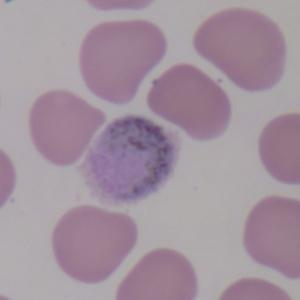Infected: (77, 113, 183, 209)
Uninfected: (197, 8, 286, 92), (79, 22, 164, 104), (53, 204, 138, 281), (150, 66, 233, 141), (28, 89, 106, 166), (245, 193, 300, 280), (117, 249, 198, 300)
